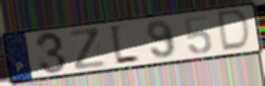3: (33, 30, 68, 76)
5: (182, 13, 214, 56)
9: (145, 19, 179, 60)
D: (217, 8, 253, 53)
L: (108, 23, 141, 68)
Z: (67, 26, 108, 72)
